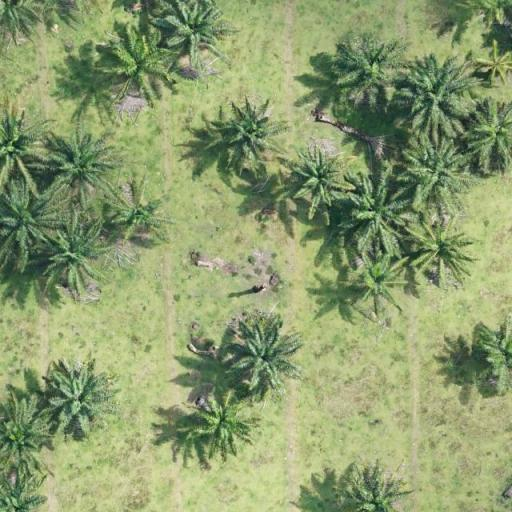Ganoderma: (421, 226, 469, 274), (115, 194, 162, 236), (358, 262, 400, 305), (480, 48, 512, 81)
